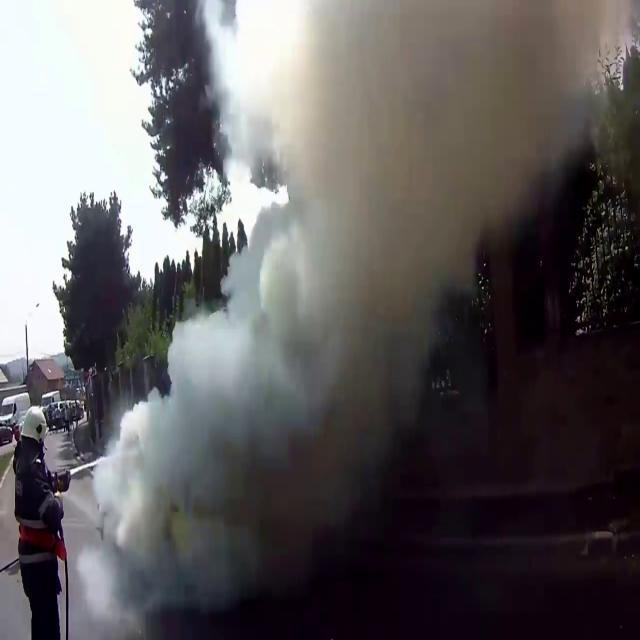Smoke: (94, 0, 611, 591)
